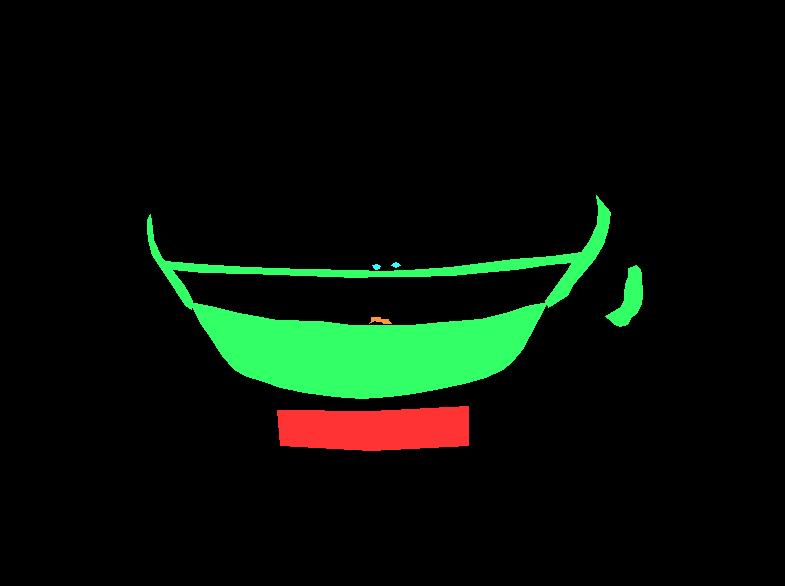Broken part: (165, 195, 610, 307), (190, 302, 547, 398), (147, 214, 192, 309), (605, 265, 642, 326)
Flaking: (391, 262, 400, 267), (372, 264, 380, 269)
Missing part: (277, 406, 468, 450)
Paint chip: (369, 317, 391, 323)
